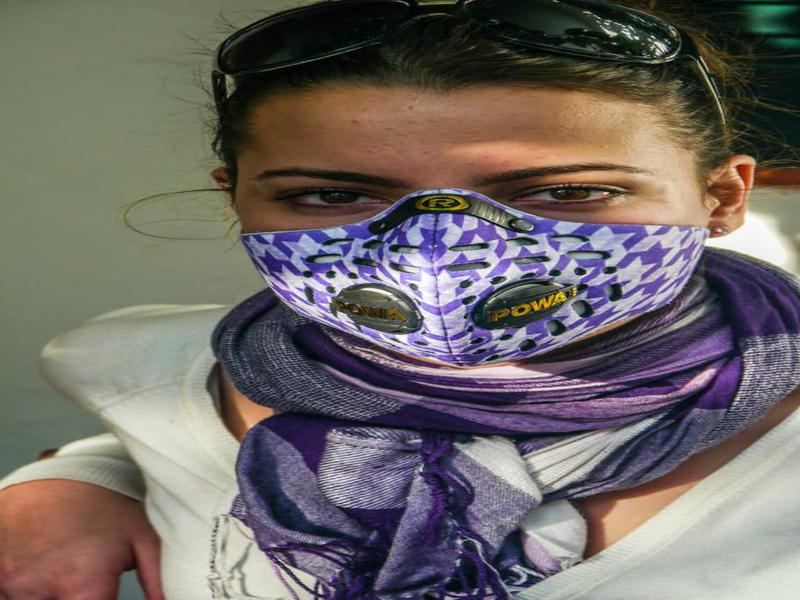with_mask: (231, 84, 711, 393)
